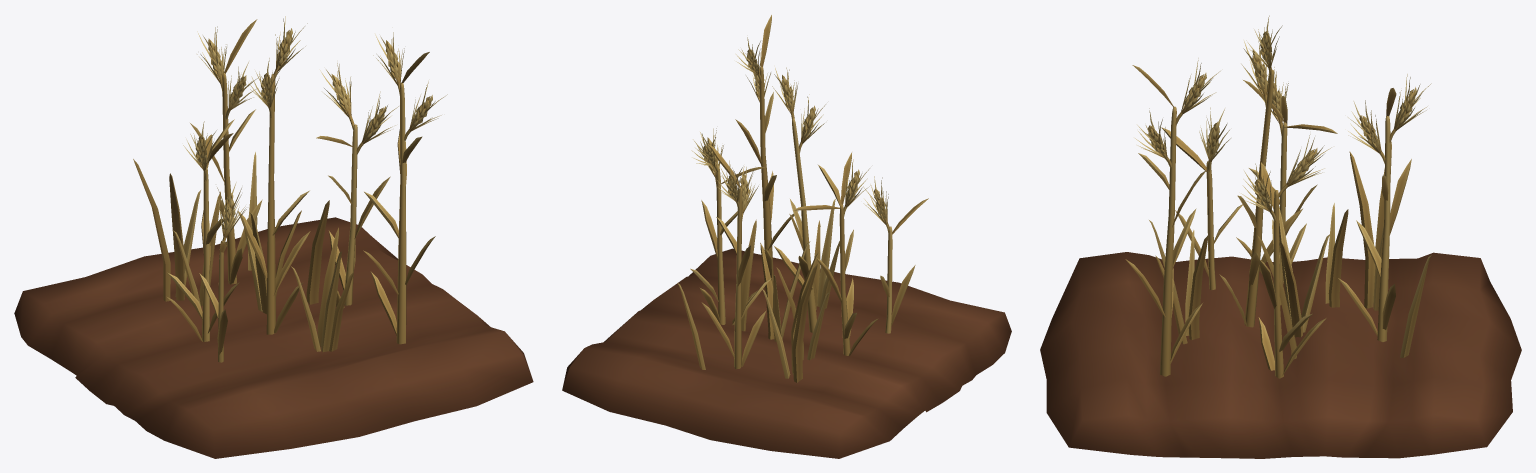
The model's file is SM_PlantSoil_Barley_Lv4.fbx.
3 renders of one model, left to right at view 1: azimuth 30°, elevation 25°; view 2: azimuth 150°, elevation 25°; view 3: azimuth 270°, elevation 25°, orthographic. The views are drawn at different scales.
Parts seen in each view (by area): view 1: SM_PlantSoil_Barley_Lv4; view 2: SM_PlantSoil_Barley_Lv4; view 3: SM_PlantSoil_Barley_Lv4.
Boxes of the visible parts, x1=… form: SM_PlantSoil_Barley_Lv4: x1=14, y1=16, x2=533, y2=458; SM_PlantSoil_Barley_Lv4: x1=562, y1=15, x2=1011, y2=458; SM_PlantSoil_Barley_Lv4: x1=1040, y1=15, x2=1521, y2=458.
Bounding box in the file's own units: 96.14 × 84.47 × 103.
